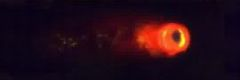keyhole: (168, 28, 184, 45)
